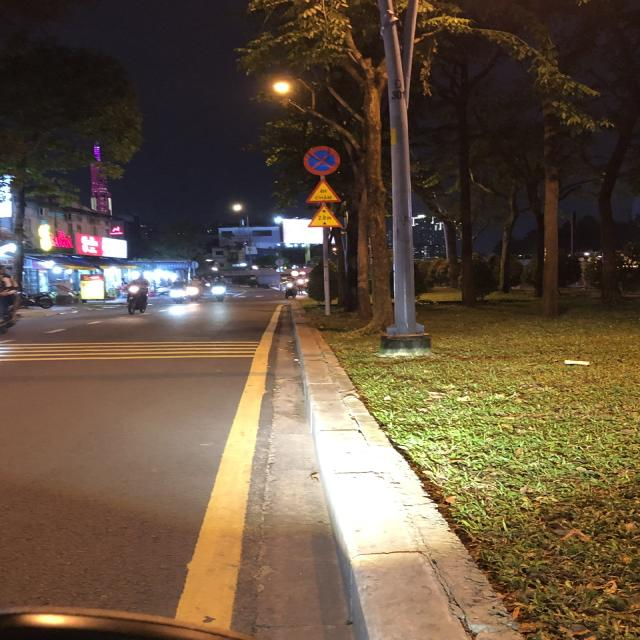Bien bao cam dung xe va do xe: (298, 144, 344, 177)
Bien bao chieu cao tinh khong thuc te: (304, 203, 346, 230)
Bien bao di cham: (303, 177, 343, 203)
